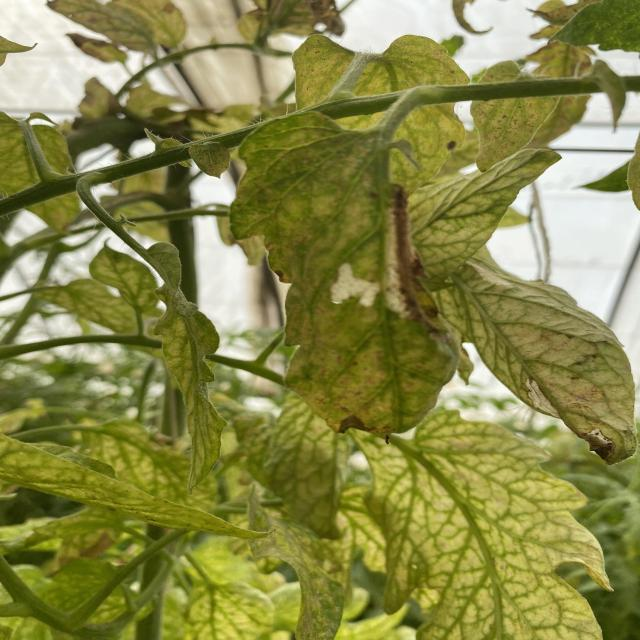Tuta absoluta: (325, 261, 384, 317)
